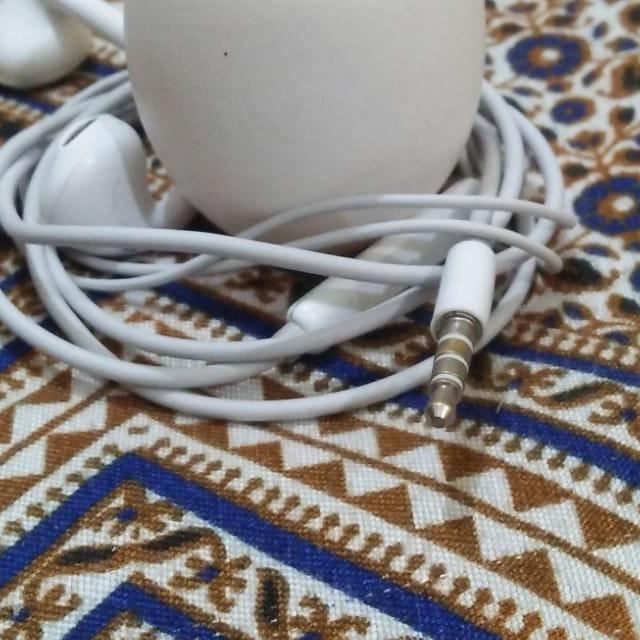egg: (0, 0, 580, 429)
